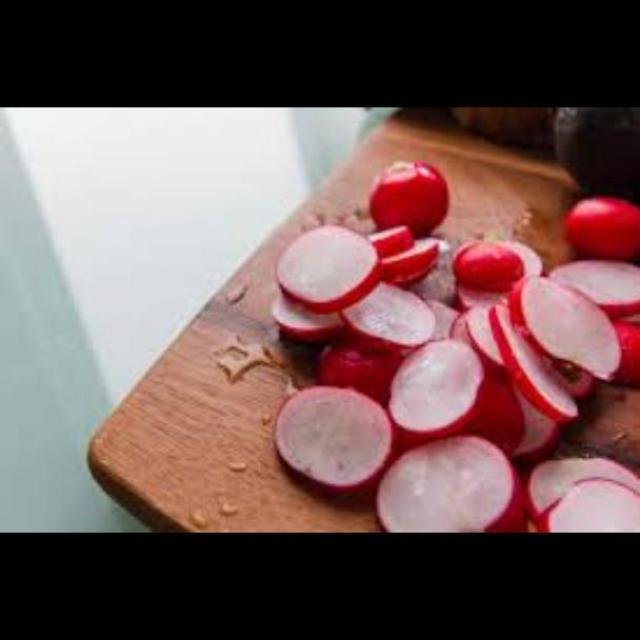rediska: (260, 202, 639, 530), (360, 156, 472, 236), (550, 179, 639, 255)
